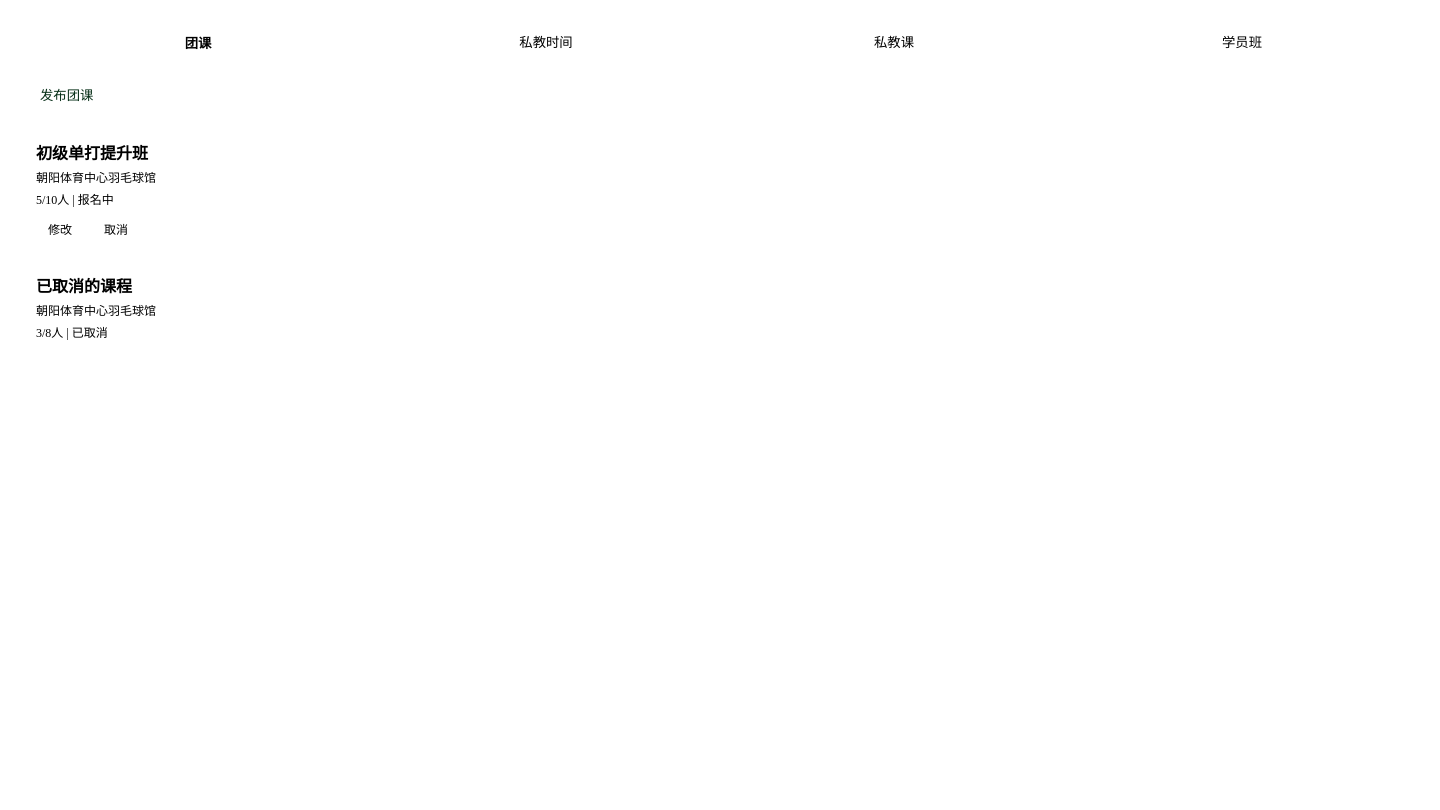
Test: MyCourseManagementPage › should open edit group class modal with pre-filled values when modify button is clicked
The image size is (1440, 810).
Click the button "修改" at [60, 228], box [36,216,84,241]
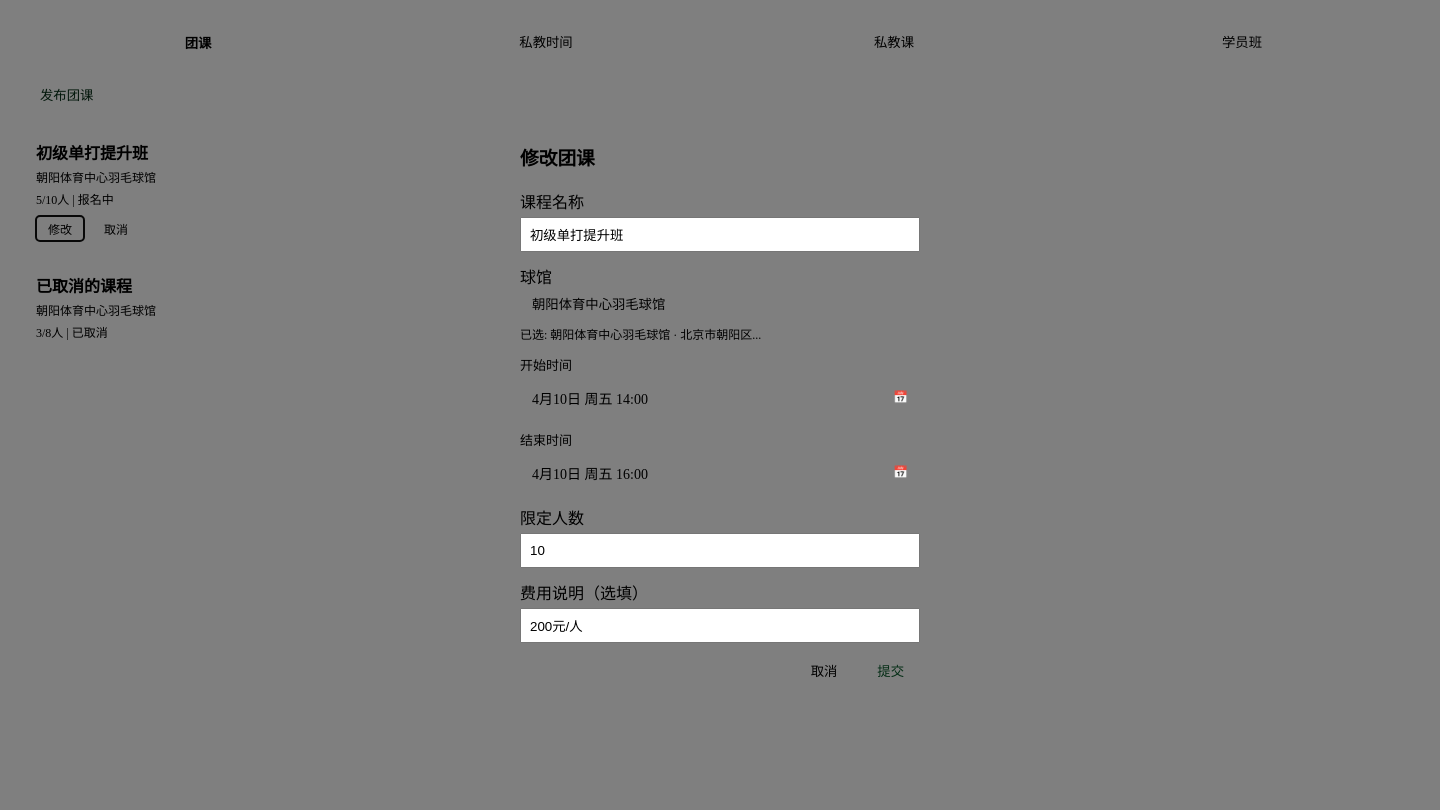
Now the field showing "初级单打提升班" below "课程名称" is shown, box [520,217,920,252]
